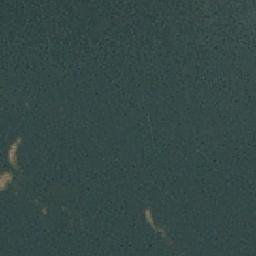debris: (146, 208, 160, 234), (10, 142, 18, 168), (1, 171, 10, 189)
